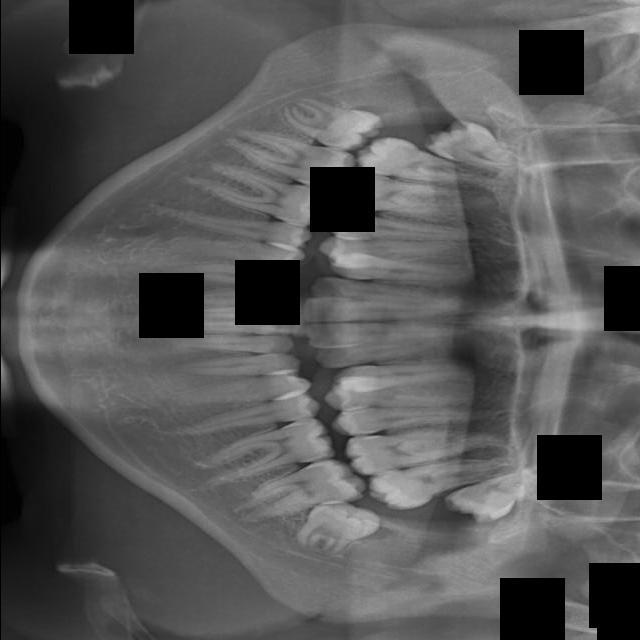3M ESPE Implant: (420, 110, 537, 179)
AGS Medikal Implant: (312, 337, 460, 371)
AMerOss Implant: (332, 360, 492, 386)
Amalgam filling: (323, 384, 473, 413)
Anthogyr Implant: (329, 406, 481, 437)
Bicon Implant: (341, 419, 497, 479)
BioHorizons Implant: (365, 447, 518, 517)
BioLife Implant: (440, 466, 547, 535)
Biomet 3i Implant: (290, 496, 386, 563)
Blue Sky Bio Implant: (311, 507, 312, 507)
Camlog Implant: (189, 414, 337, 490)
Caries: (430, 166, 469, 173)
Composite filling: (171, 391, 322, 443)
Cowellmedi Implant: (161, 365, 313, 420)
Crown: (165, 351, 301, 382)
DENTSPLY Implant: (172, 334, 294, 356)
Dentatus Implant: (175, 318, 292, 335)
Dentis Implant: (170, 302, 291, 324)
Dentium Implant: (167, 287, 289, 306)
Euroteknika Implant: (157, 259, 298, 290)
Filling: (163, 228, 306, 270)
Frontier Implant: (148, 197, 313, 250)
Hiossen Implant: (423, 195, 479, 203)
Implant: (216, 121, 357, 192)
Implant Direct: (179, 156, 331, 229)
Keystone Dental Implant: (277, 92, 386, 155)
MIS Implant: (325, 210, 479, 242)
Mandible: (317, 232, 470, 261)
Maxilla: (326, 257, 477, 284)
Megagen Implant: (341, 277, 342, 277)
Neodent Implant: (301, 292, 467, 322)
Neoss Implant: (305, 316, 476, 350)
